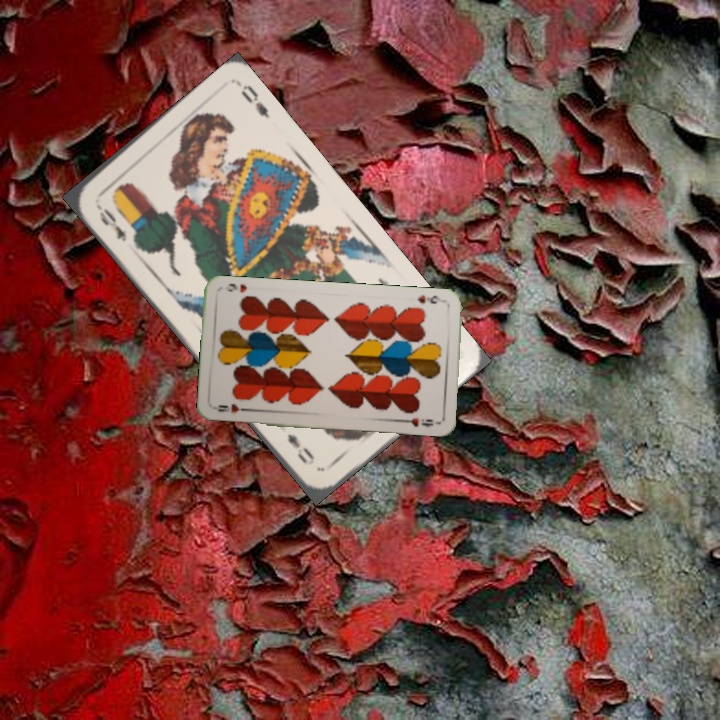EO: (92, 199, 130, 245)
H9: (211, 400, 252, 416), (414, 291, 447, 307)
